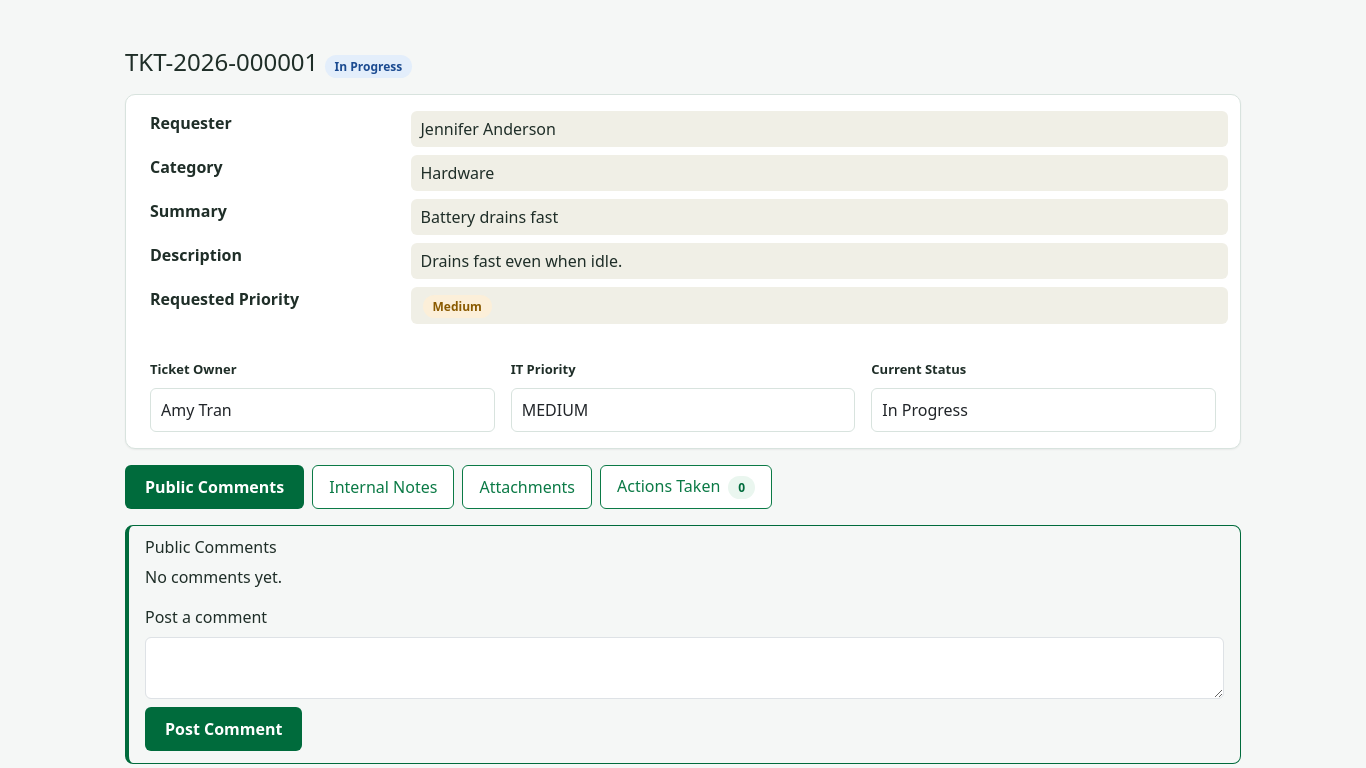
Test case: Ticket workflow feedback (UI-02) › a successful status change refreshes the summary badge without a reload
This screenshot has width=1366, height=768.
Check: the heading "TKT-2026-000001 In Progress" is shown, box [125,45,412,78]
Check: the text with test id "status-badge" reads "In Progress", box [335,58,402,75]
Select "Waiting for Requester" in the dropdown labelled "Current Status" at [1044, 410], box [871,388,1216,432]
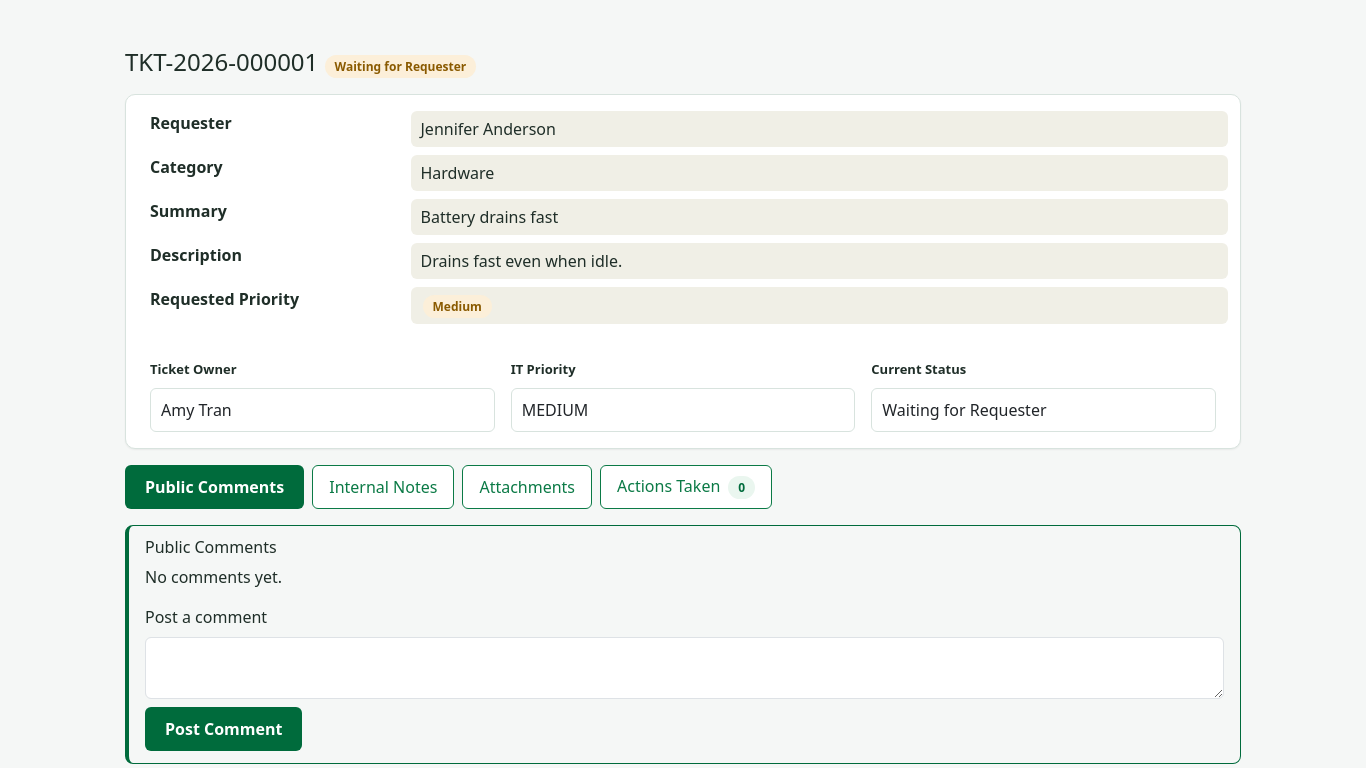
Check: the text with test id "status-badge" reads "Waiting for Requester", box [335,58,466,75]
